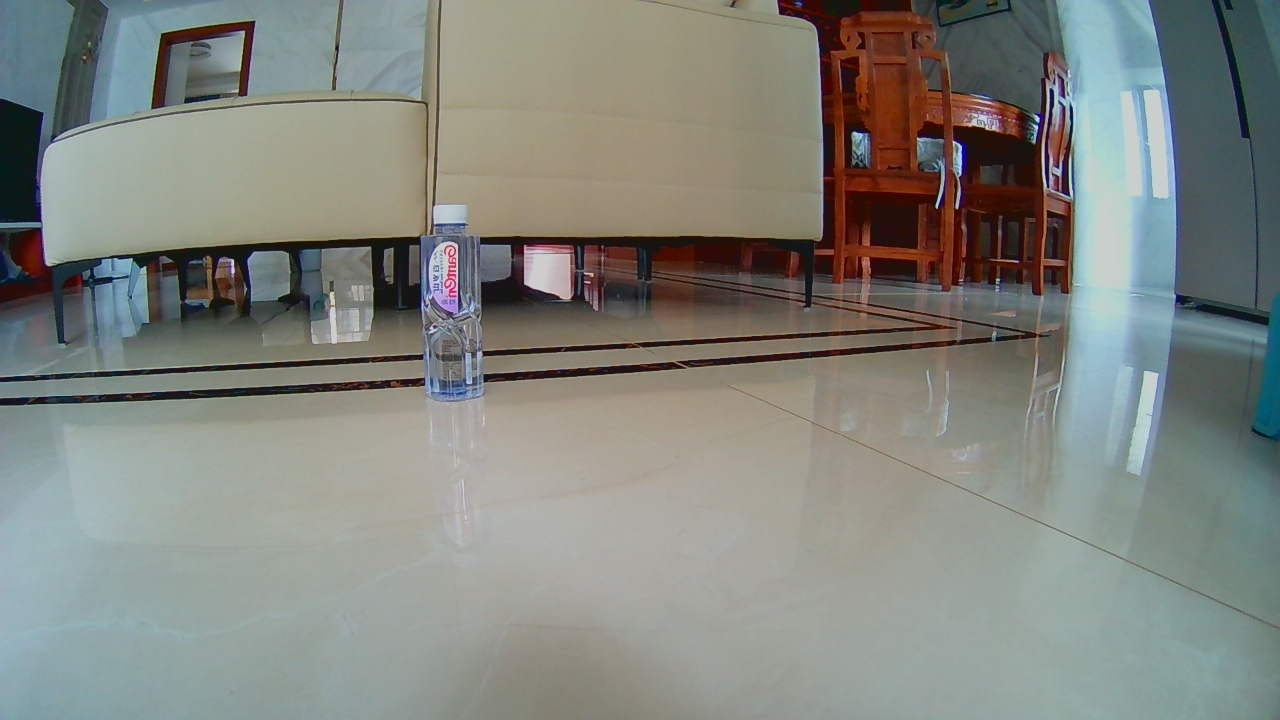water: (413, 205, 487, 403)
